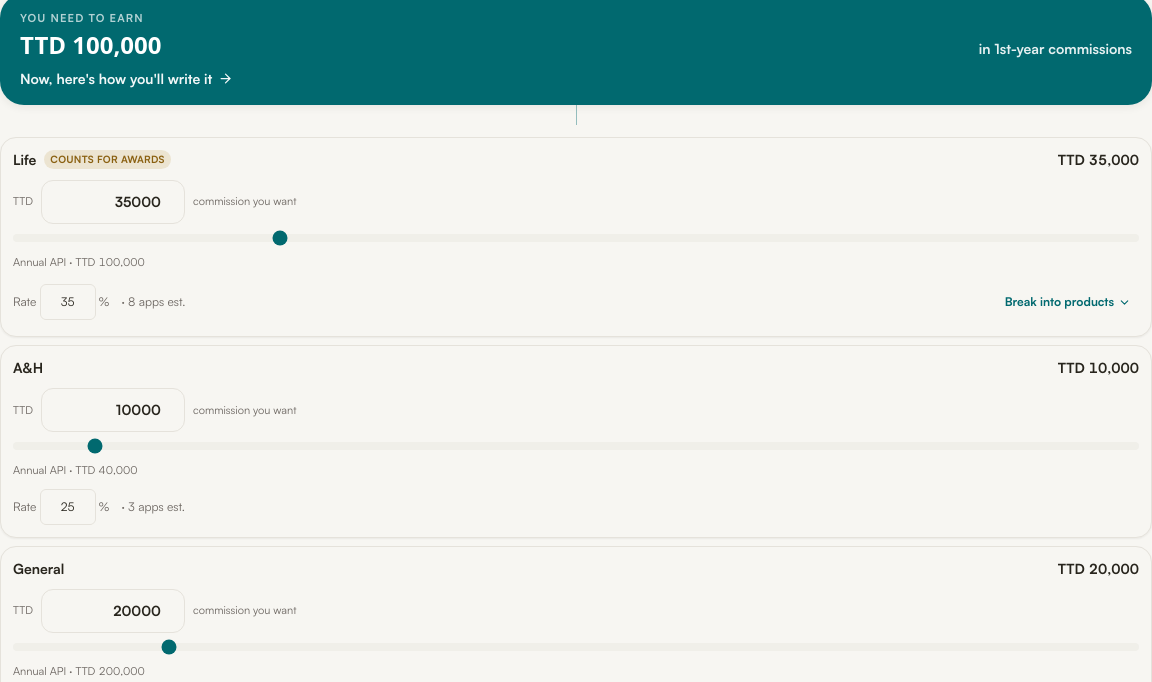
Test: MoneyNeedsAllocator — per-product drill (Life) › caps products at 4 (no Add button when full)
The image size is (1152, 682).
Click the button with test id "alloc-drill-toggle-life". click: (1068,302)
box: [997, 280, 1139, 324]
(page scrolled)
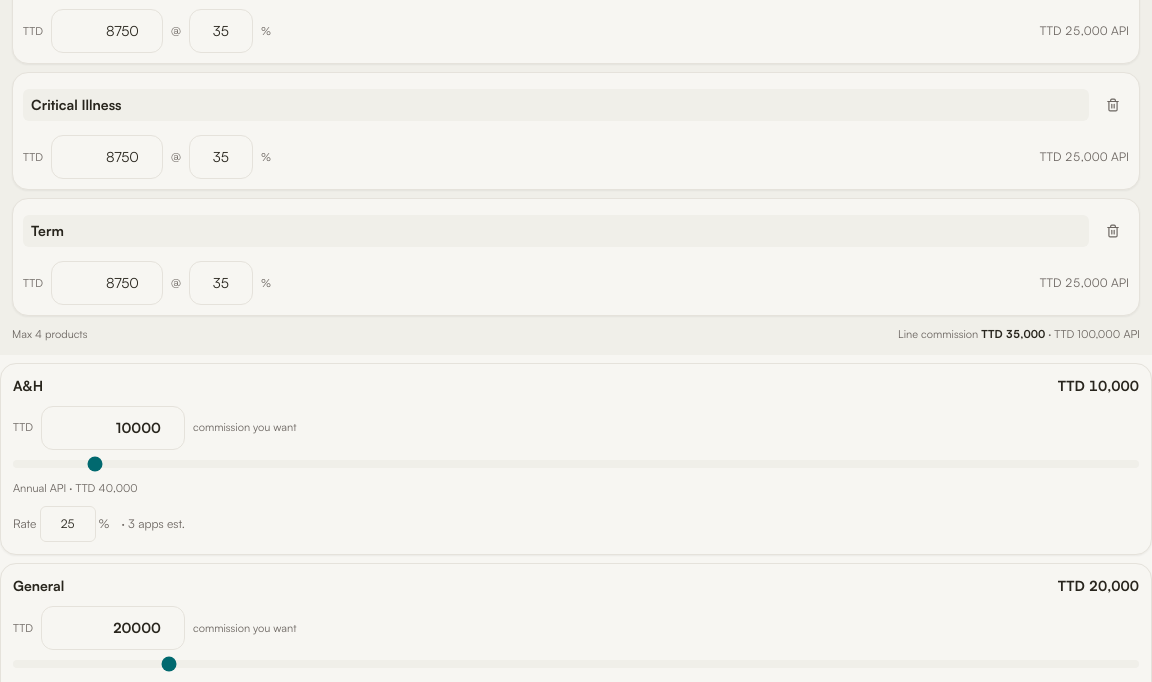
expect the text "Max 4 products" is shown: met, box [12, 326, 87, 342]
